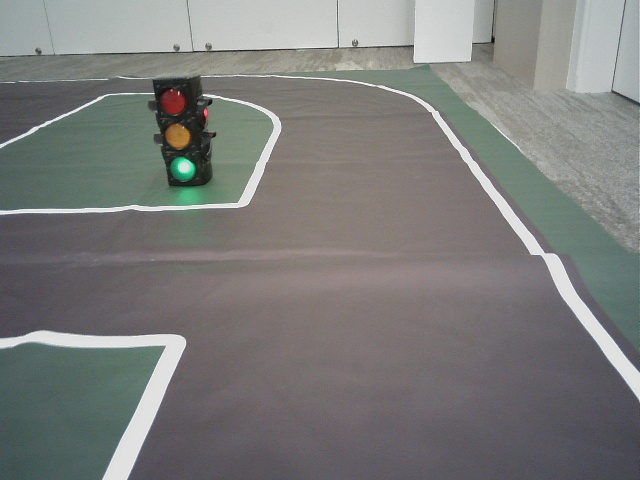green: (155, 82, 199, 181)
